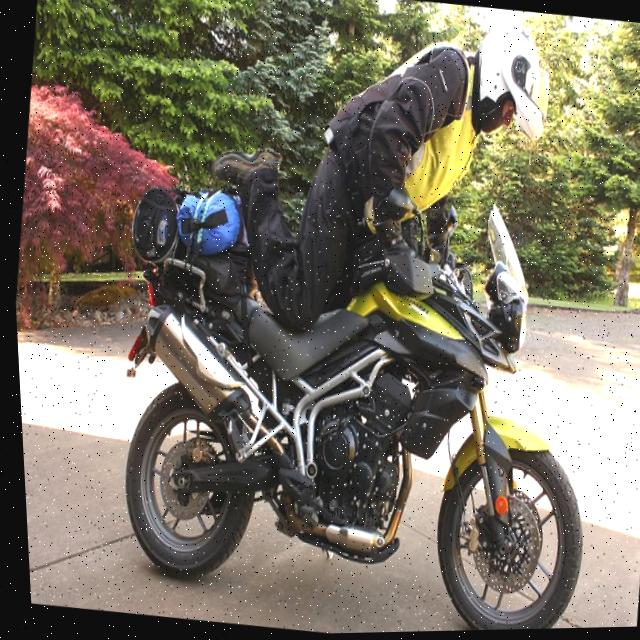motorcycle: (79, 152, 630, 638)
